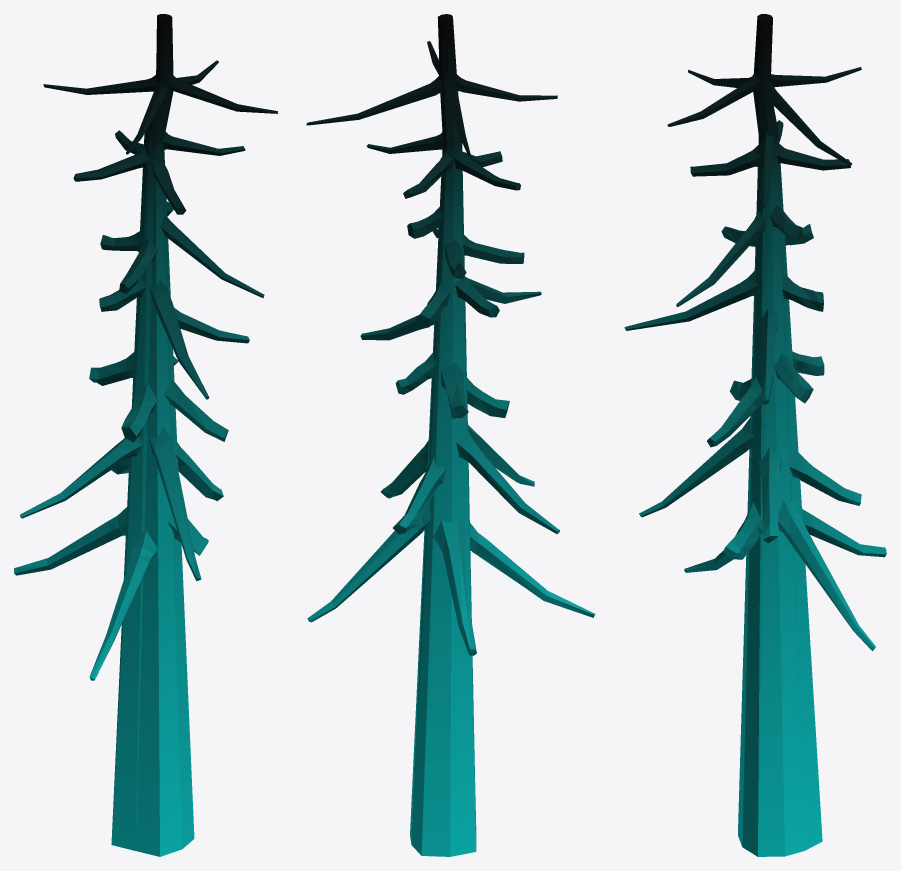
File: PineTreeDead01.fbx
3 renders of one model, left to right at view 1: azimuth 30°, elevation 25°; view 2: azimuth 150°, elevation 25°; view 3: azimuth 270°, elevation 25°, orthographic.
Parts seen in each view (by area): view 1: PineTreeDead01_LOD0; view 2: PineTreeDead01_LOD0; view 3: PineTreeDead01_LOD0.
Boxes of the visible parts, x1,y1,x2,y2 form: PineTreeDead01_LOD0: [14, 14, 277, 856]; PineTreeDead01_LOD0: [306, 14, 595, 856]; PineTreeDead01_LOD0: [624, 14, 886, 856].
Size of the model in its own units: 228 by 791 by 227.
